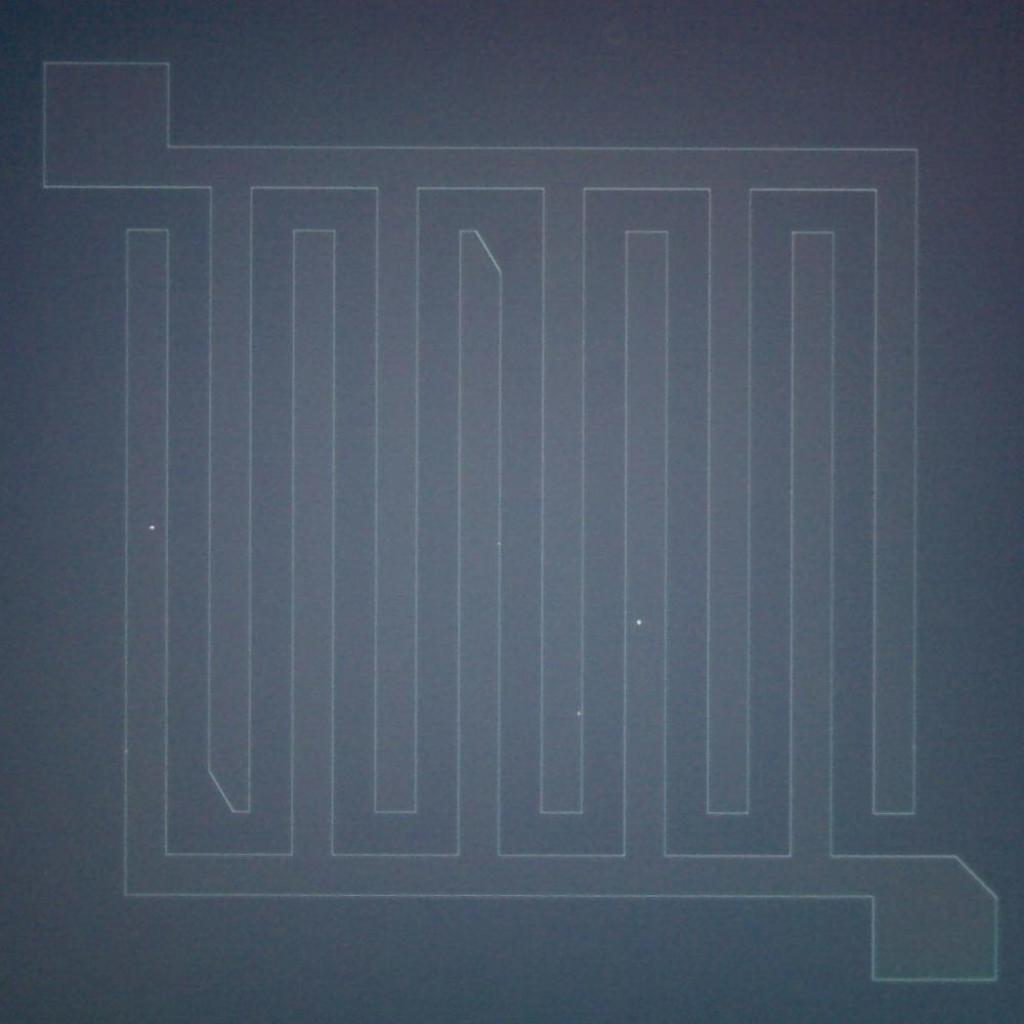dot: (636, 620, 642, 624), (150, 526, 154, 530), (577, 712, 581, 716)
